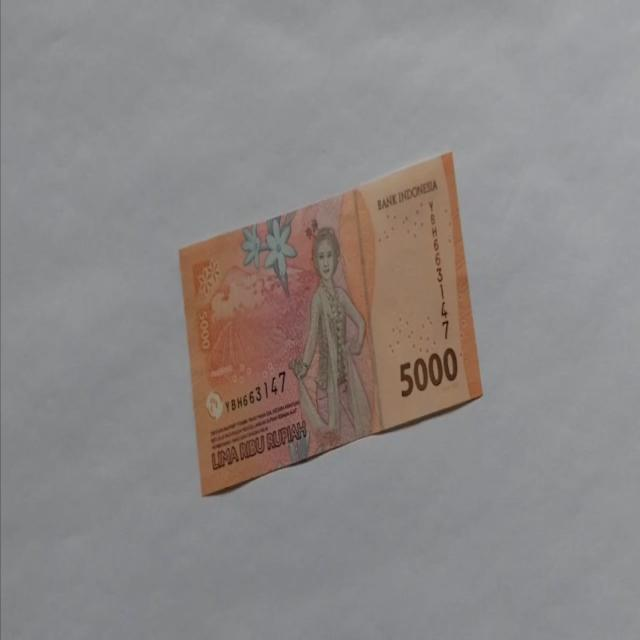lima ribu rupiah: (178, 149, 483, 496), (288, 225, 372, 456)
